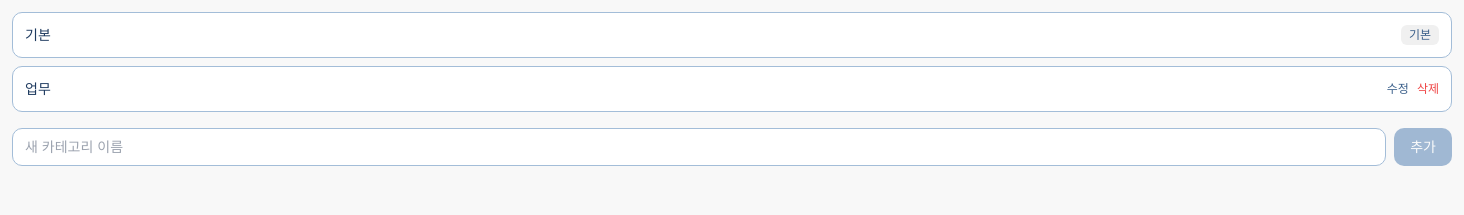
Test: CategoryList › 카테고리 생성 › create API 오류 시 에러 메시지를 표시한다
Type "새카테고리" into the field labelled "새 카테고리 이름" at (699, 147), box 12,128 -> 1386,166
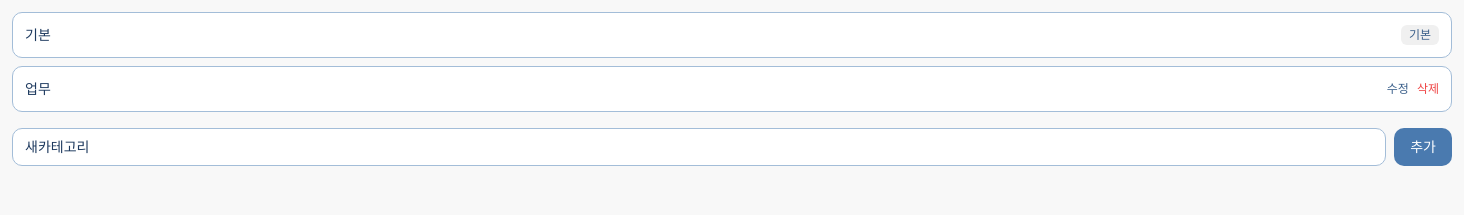
Click the button "추가" at (1423, 147), box 1394,128 -> 1452,166
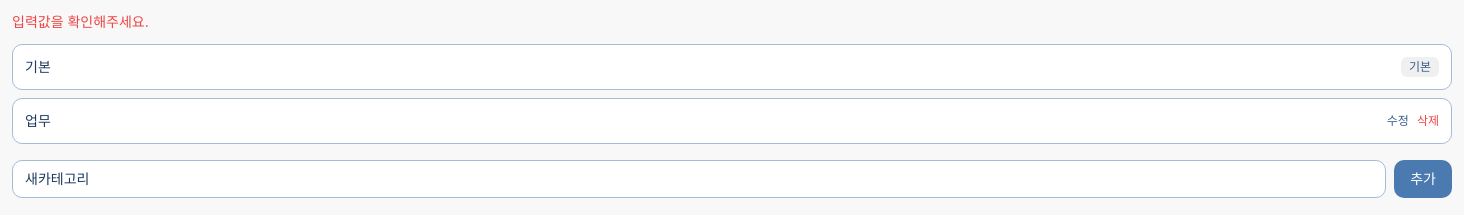
Expected: the message reads "입력값을 확인해주세요.", 12,13 -> 149,30
